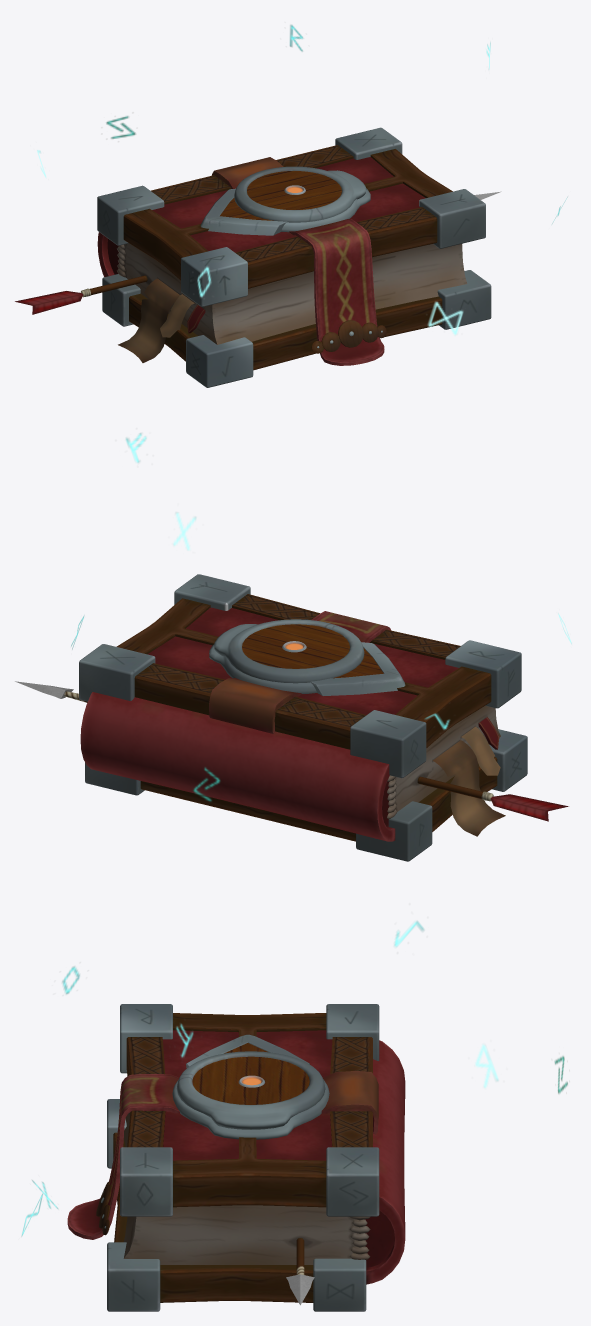
3 views of the same model, one above another, from view 1: azimuth 30°, elevation 25°; view 2: azimuth 150°, elevation 25°; view 3: azimuth 270°, elevation 25° (orthographic). The views are drawn at different scales.
Parts seen in each view (by area): view 1: Covers_low, CornerCubes_low, Spinepages_low, Ribbon_low, TopRing_low, ToPlane_low, Leftmark_low, BottomV_low, Buttons_low, Lights_low, Feather_low, Bottomring_low (+1 smaller); view 2: Spinepages_low, Covers_low, CornerCubes_low, Ribbon_low, TopRing_low, ToPlane_low, Leftmark_low, BottomV_low, Lights_low, Feather_low, Bottomring_low, Middlemark_low (+1 smaller); view 3: Covers_low, Spinepages_low, CornerCubes_low, Ribbon_low, TopRing_low, ToPlane_low, Bottomring_low, Lights_low, BottomV_low, Stitch2_low.
Part boxes in pixels (x1=…): Covers_low: x1=123, y1=145, x2=452, y2=370; CornerCubes_low: x1=97, y1=127, x2=491, y2=387; Spinepages_low: x1=97, y1=232, x2=467, y2=344; Ribbon_low: x1=212, y1=157, x2=384, y2=365; TopRing_low: x1=234, y1=166, x2=366, y2=222; ToPlane_low: x1=247, y1=171, x2=341, y2=209; Leftmark_low: x1=118, y1=278, x2=180, y2=362; BottomV_low: x1=200, y1=188, x2=286, y2=235; Buttons_low: x1=311, y1=320, x2=386, y2=353; Lights_low: x1=37, y1=24, x2=567, y2=335; Feather_low: x1=15, y1=291, x2=83, y2=314; Bottomring_low: x1=281, y1=188, x2=370, y2=232; Spinepages_low: x1=80, y1=692, x2=500, y2=841; Covers_low: x1=116, y1=594, x2=497, y2=841; CornerCubes_low: x1=79, y1=574, x2=527, y2=861; Ribbon_low: x1=209, y1=611, x2=391, y2=733; TopRing_low: x1=214, y1=619, x2=364, y2=683; ToPlane_low: x1=242, y1=624, x2=349, y2=668; Leftmark_low: x1=433, y1=740, x2=505, y2=836; BottomV_low: x1=310, y1=642, x2=405, y2=695; Lights_low: x1=71, y1=433, x2=571, y2=801; Feather_low: x1=490, y1=794, x2=568, y2=821; Bottomring_low: x1=209, y1=644, x2=316, y2=693; Middlemark_low: x1=461, y1=726, x2=500, y2=775; Covers_low: x1=113, y1=1013, x2=372, y2=1302; Spinepages_low: x1=123, y1=1040, x2=405, y2=1284; CornerCubes_low: x1=107, y1=1004, x2=379, y2=1311; Ribbon_low: x1=67, y1=1071, x2=378, y2=1239; TopRing_low: x1=176, y1=1051, x2=325, y2=1129; ToPlane_low: x1=192, y1=1056, x2=309, y2=1104; Bottomring_low: x1=172, y1=1079, x2=329, y2=1139; Lights_low: x1=21, y1=920, x2=567, y2=1236; BottomV_low: x1=186, y1=1034, x2=309, y2=1068; Stitch2_low: x1=349, y1=1216, x2=370, y2=1259.
Bounding box in the file's own units: 20.2 × 10.51 × 16.69.
Materials: 1 (1 with a texture image).
